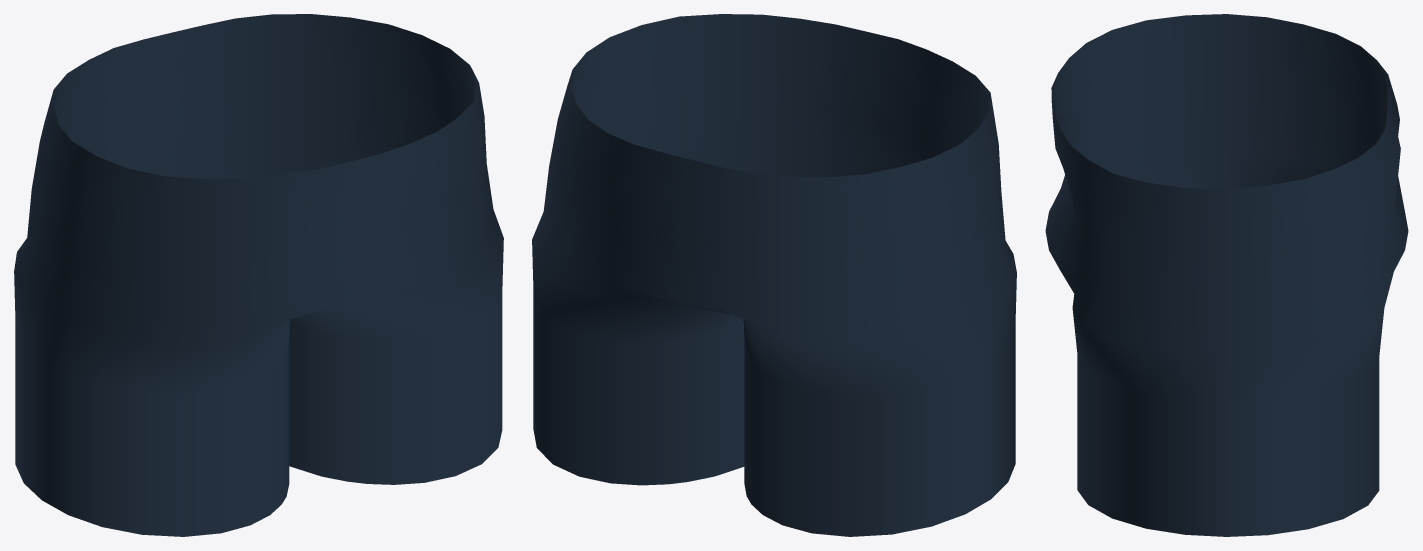
File: swim-shorts-only.glb
The picture shows the model from 3 angles, left to right: view 1: azimuth 30°, elevation 25°; view 2: azimuth 150°, elevation 25°; view 3: azimuth 270°, elevation 25°; orthographic projection. The views are drawn at different scales.
Visible parts, largest first — view 1: Apparel_swim-shorts_cloth; view 2: Apparel_swim-shorts_cloth; view 3: Apparel_swim-shorts_cloth.
Boxes of the visible parts, <box> form: Apparel_swim-shorts_cloth: <box>14,14,503,536</box>; Apparel_swim-shorts_cloth: <box>532,14,1016,536</box>; Apparel_swim-shorts_cloth: <box>1045,14,1408,536</box>.
Bounding box in the file's own units: 0.96 × 0.74 × 0.73.
